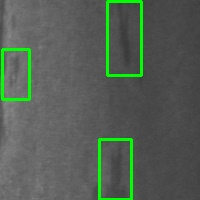inclusion: (107, 1, 141, 75), (99, 139, 131, 199), (2, 49, 29, 99)
